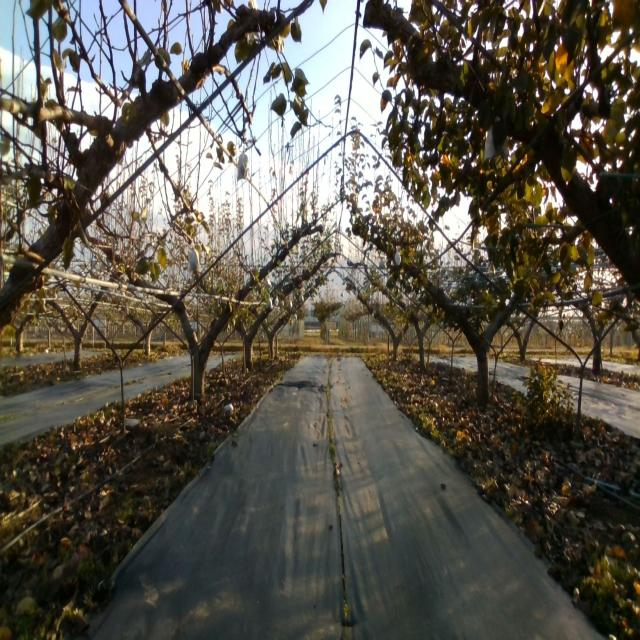pearbags: (186, 239, 201, 275), (236, 146, 250, 183)
